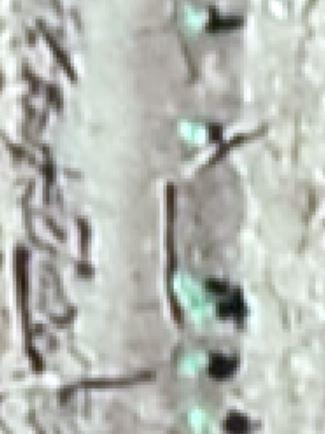cotton: (173, 272, 204, 314), (182, 120, 205, 147), (182, 353, 209, 375), (188, 410, 212, 433), (187, 10, 206, 33)
